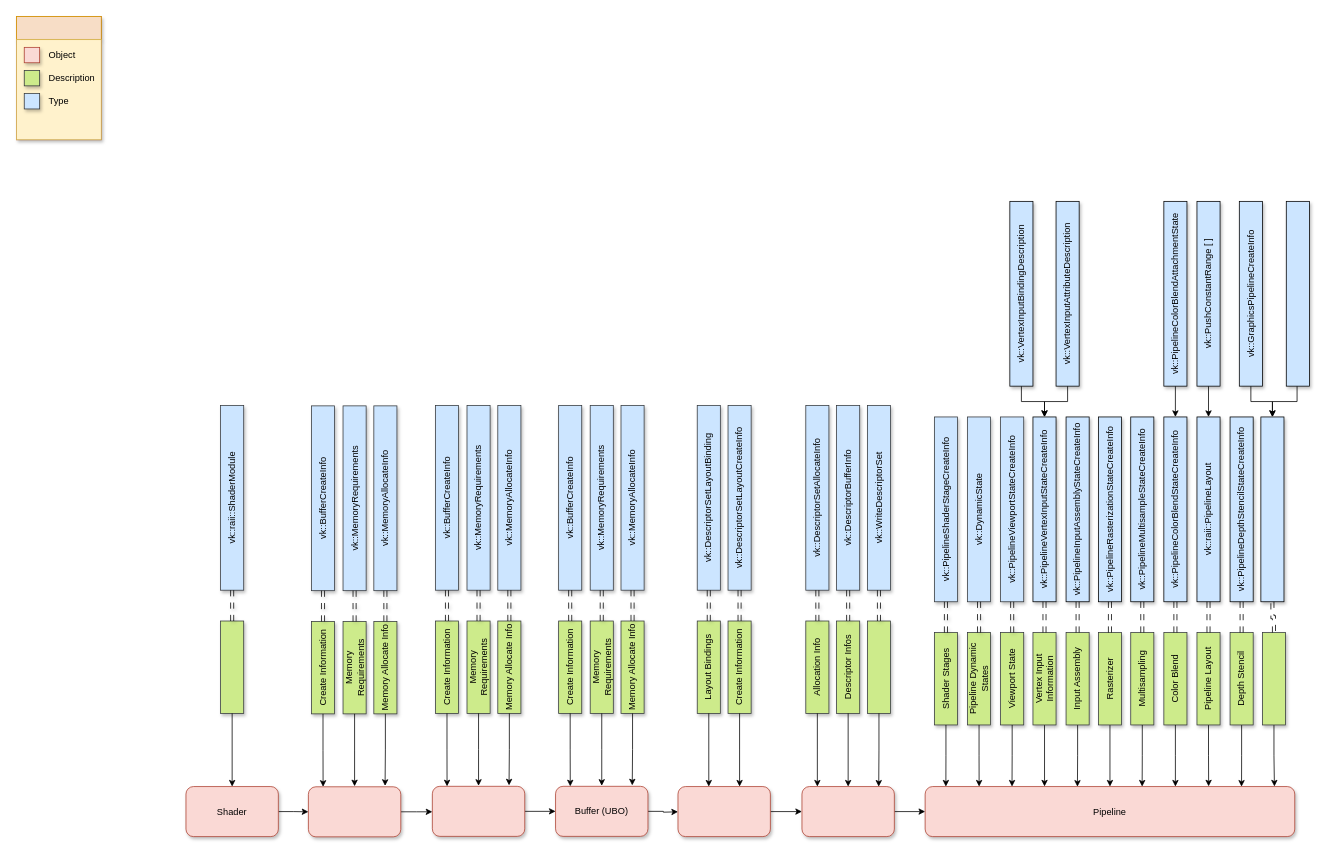
This 1328x856 diagram has some shape labels left out. The shapes that lost their labels are listed below. From the top down, each one's centre as x and y in pixels, then its label:
At (59,29): "Legend".
At (1298,294): "vk::PipelineRenderingCreateInfo".
At (1273,510): "vk::StructureChain".
At (232,668): "Shader Module".
At (879,668): "Write Descriptor Set".
At (1274,679): "Structure Chain".
At (355,812): "Buffer (Vertex Buffer)".
At (479,812): "Buffer (Index Buffer)".
At (724,812): "Descriptor Set Layout".
At (848,812): "Descriptor Set".
